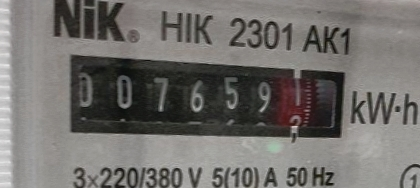0: (110, 71, 136, 112), (71, 69, 96, 111)
1: (288, 77, 306, 111)
5: (220, 74, 241, 113)
6: (185, 76, 207, 116)
7: (150, 75, 170, 115)
9: (254, 79, 272, 117)
screen: (58, 38, 354, 166)
